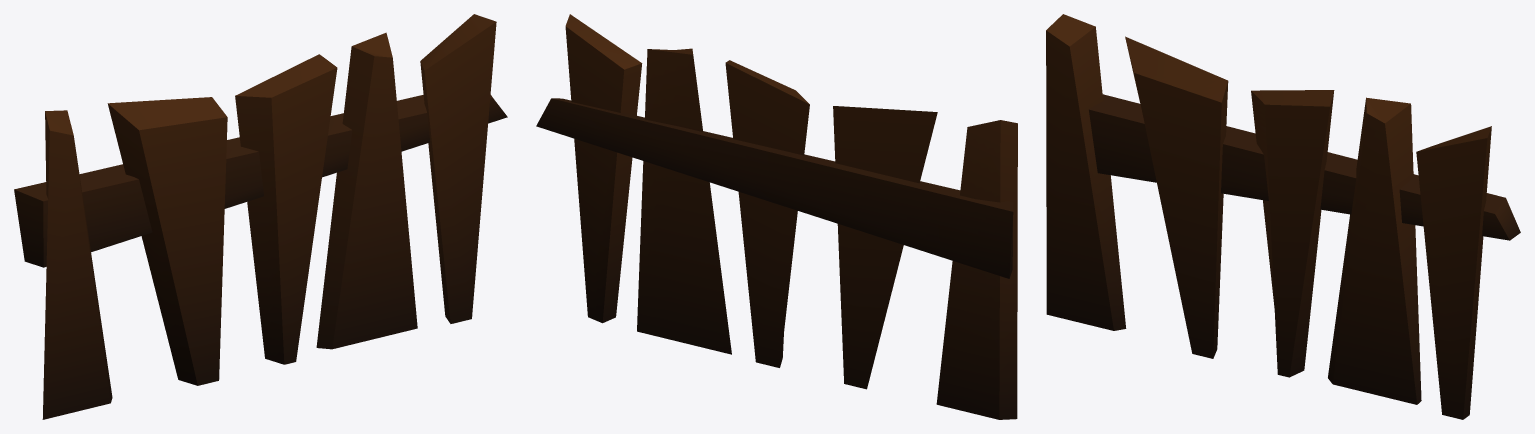
The model's file is c_fence_planks_wood_ab.fbx.
3 renders of one model, left to right at view 1: azimuth 30°, elevation 25°; view 2: azimuth 150°, elevation 25°; view 3: azimuth 330°, elevation 25°, orthographic.
Parts seen in each view (by area): view 1: c_fence_planks_wood_ab; view 2: c_fence_planks_wood_ab; view 3: c_fence_planks_wood_ab.
Part boxes in pixels (x1,y1,x2,y2): c_fence_planks_wood_ab: (14,14,507,419); c_fence_planks_wood_ab: (536,14,1017,419); c_fence_planks_wood_ab: (1046,14,1520,419).
Bounding box in the file's own units: 2.16 × 1.3 × 0.1578.
